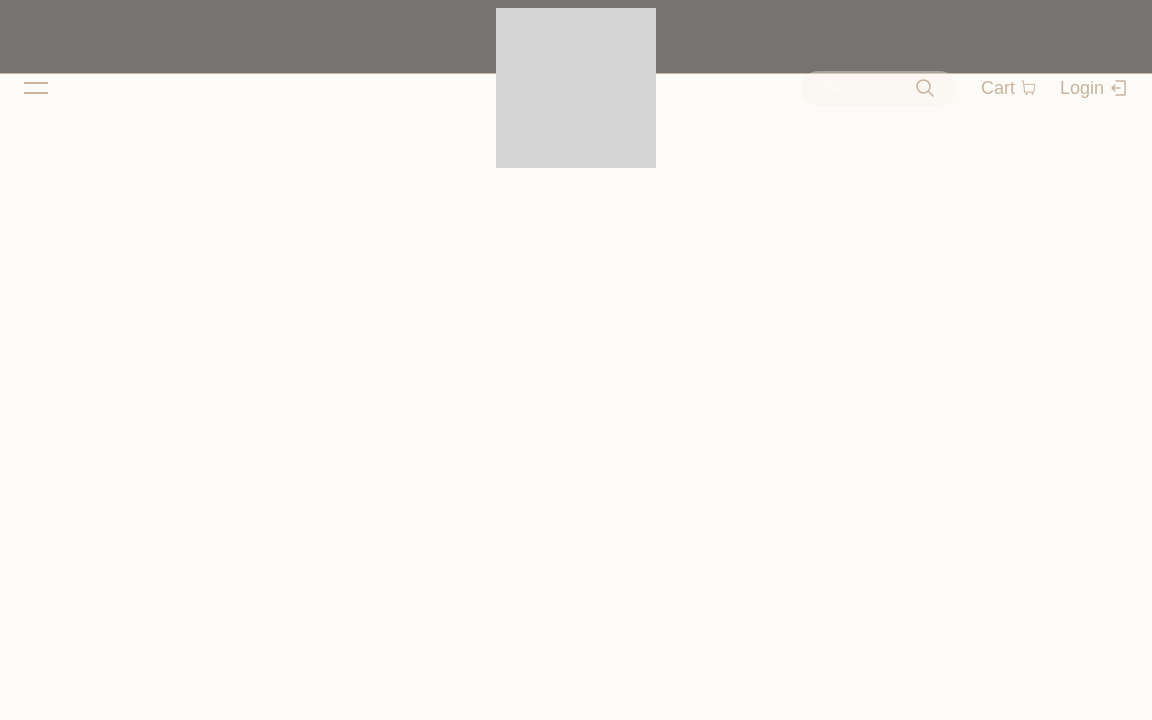
MainNavbar › opens the Figma main menu sidebar with the approved route links
What coordinates should you click on to do the following:
click the button named "Open main menu"
I would click on:
 (36, 88)
Its box is [24,77,48,99].
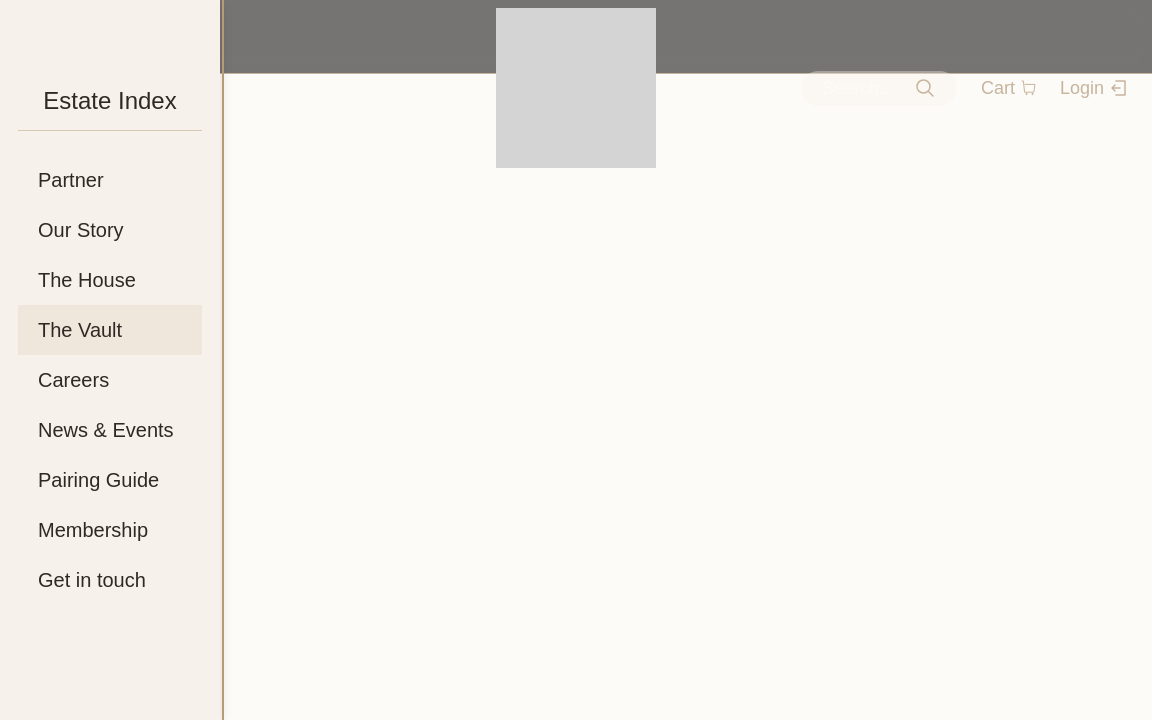
Now the button named "Open main menu" is expanded, box [24,77,48,99]
